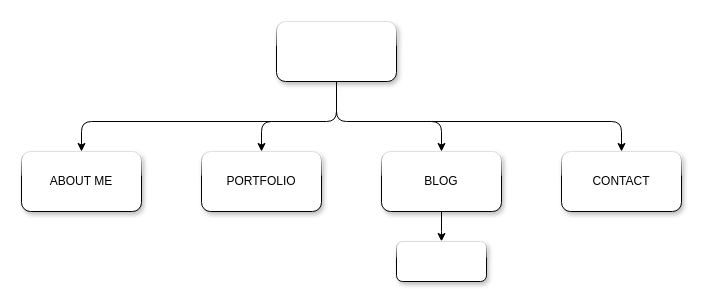
This 705x306 diagram has some shape labels left out. Here are the shapes that lost their labels. From the top down, the centre of each, then its label:
At point (337, 52): "HOME".
At point (442, 262): "BLOG POST".
